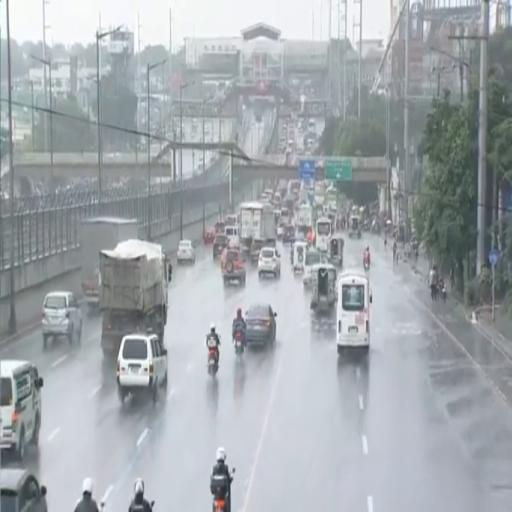bus: (337, 272, 372, 355), (315, 217, 332, 251)
car: (0, 360, 43, 460), (117, 333, 167, 404), (42, 292, 82, 347), (0, 469, 47, 511), (246, 303, 276, 345), (221, 248, 245, 284), (258, 247, 280, 278), (177, 239, 196, 264), (213, 234, 228, 259), (250, 239, 264, 264), (203, 228, 215, 244)
motorcycle: (213, 486, 230, 511), (207, 348, 218, 376), (234, 329, 244, 356), (438, 281, 446, 301), (364, 260, 369, 270)
truck: (99, 239, 170, 356), (80, 217, 138, 308), (240, 202, 275, 252), (297, 203, 312, 234)
